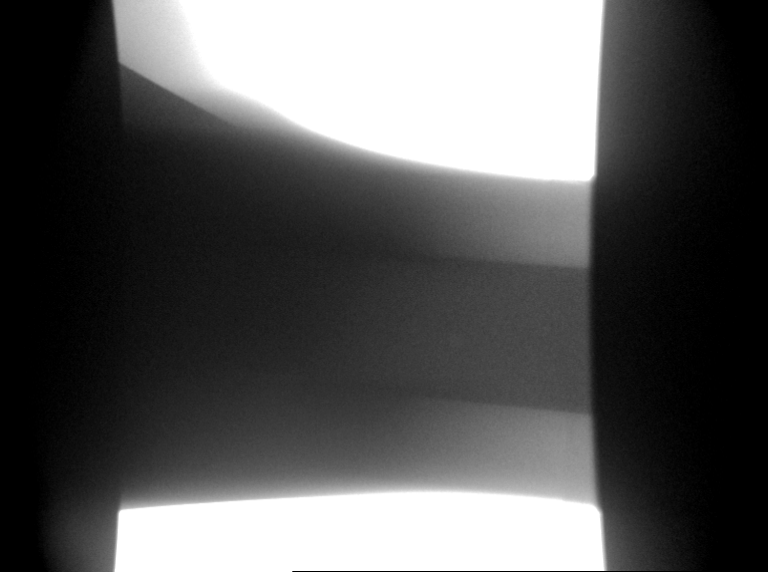defect: (444, 324, 473, 347)
